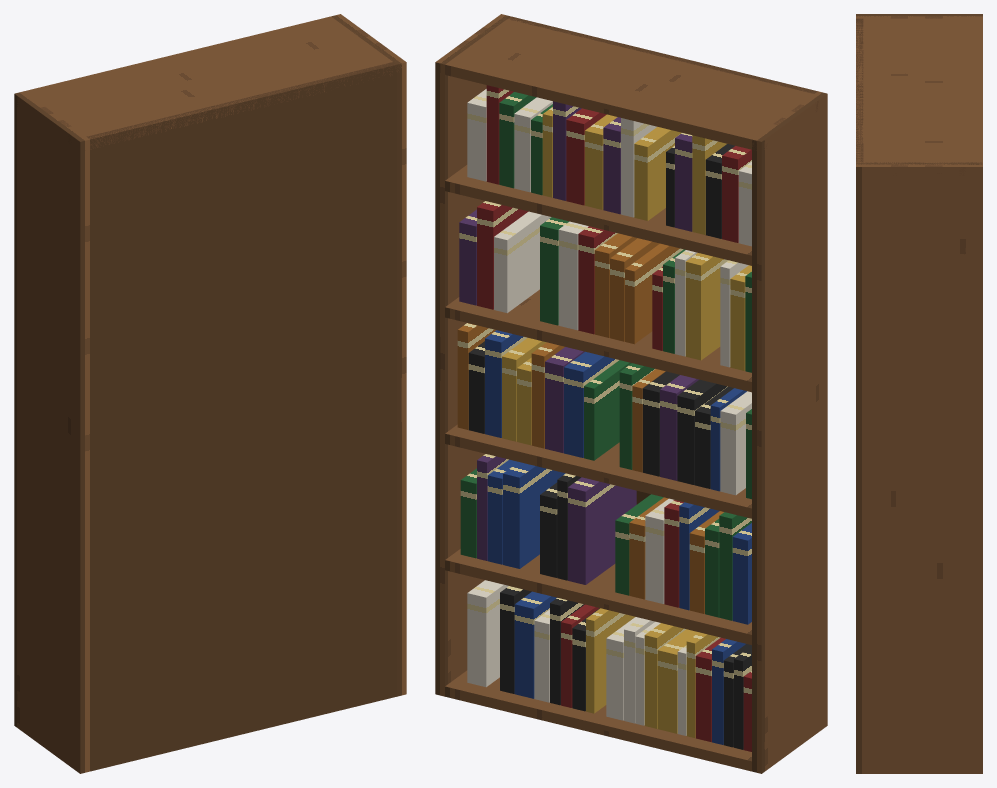
File: f_bookcase.glb
3 views of the same model, side by side, from view 1: azimuth 30°, elevation 25°; view 2: azimuth 150°, elevation 25°; view 3: azimuth 270°, elevation 25° (orthographic). The views are drawn at different scales.
Parts seen in each view (by area): view 1: block_back, block_side-0.5, block_top, block_side0.47; view 2: block_side-0.5, block_top, block_side0.47, block_shelf3, block_shelf1, block_shelf2, block_shelf0, block_shelf4, block_books10.068, block_books10.270, block_books30.308, block_books3-0.286 (+84 smaller); view 3: block_side0.47, block_top, block_back, block_side-0.5.
Boxes of the visible parts, bbox=[...] form: block_back: bbox=[86, 62, 396, 771]; block_side-0.5: bbox=[14, 91, 89, 773]; block_top: bbox=[14, 14, 406, 150]; block_side0.47: bbox=[331, 14, 406, 696]; block_side-0.5: bbox=[752, 91, 827, 773]; block_top: bbox=[435, 14, 827, 151]; block_side0.47: bbox=[435, 14, 510, 696]; block_shelf3: bbox=[445, 289, 751, 392]; block_shelf1: bbox=[445, 549, 751, 644]; block_shelf2: bbox=[445, 424, 751, 518]; block_shelf0: bbox=[445, 670, 751, 771]; block_shelf4: bbox=[445, 165, 751, 265]; block_books10.068: bbox=[568, 477, 636, 584]; block_books10.270: bbox=[503, 462, 565, 568]; block_books30.308: bbox=[494, 211, 551, 313]; block_books3-0.286: bbox=[685, 253, 728, 360]; block_side0.47: bbox=[856, 162, 982, 773]; block_top: bbox=[856, 14, 982, 176]; block_back: bbox=[856, 18, 863, 161]; block_side-0.5: bbox=[856, 14, 982, 18].
Bounding box in the file's own units: 1 × 1.85 × 0.35.
Materials: 1 (1 with a texture image).
